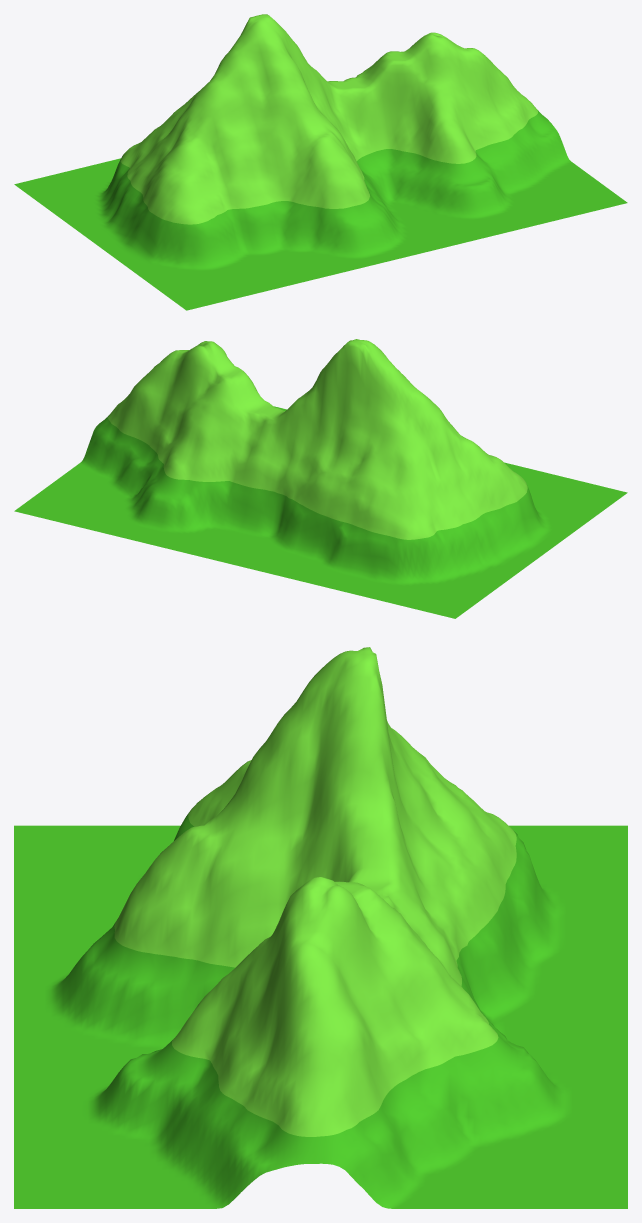
The model's file is testModel.fbx.
3 renders of one model, top to bottom at view 1: azimuth 30°, elevation 25°; view 2: azimuth 150°, elevation 25°; view 3: azimuth 270°, elevation 25°, orthographic. The views are drawn at different scales.
Parts seen in each view (by area): view 1: Plane001, Plane001_2; view 2: Plane001, Plane001_2; view 3: Plane001_2, Plane001.
Boxes of the visible parts, x1=… form: Plane001: x1=120, y1=14, x2=538, y2=224; Plane001_2: x1=14, y1=110, x2=627, y2=310; Plane001: x1=108, y1=339, x2=527, y2=539; Plane001_2: x1=14, y1=406, x2=627, y2=618; Plane001_2: x1=14, y1=812, x2=627, y2=1208; Plane001: x1=114, y1=647, x2=516, y2=1136.
Size of the model in its own units: 173 by 117 by 67.37.
